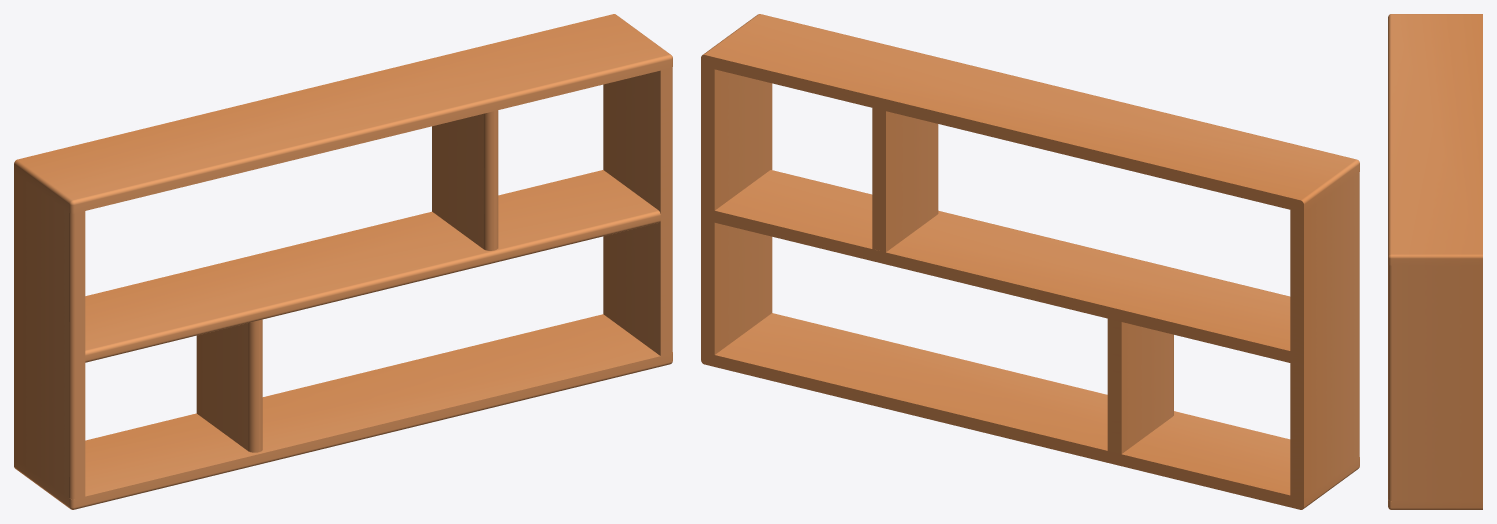
The model's file is SM_Bibliotheque.fbx.
3 renders of one model, left to right at view 1: azimuth 30°, elevation 25°; view 2: azimuth 150°, elevation 25°; view 3: azimuth 270°, elevation 25°, orthographic. The views are drawn at different scales.
Visible parts, largest first — view 1: Bibliotheque; view 2: Bibliotheque; view 3: Bibliotheque.
Part boxes in pixels (x1,y1,x2,y2): Bibliotheque: [14, 14, 672, 509]; Bibliotheque: [701, 14, 1359, 509]; Bibliotheque: [1388, 14, 1482, 509].
Bounding box in the file's own units: 188 × 92.09 × 30.96.
